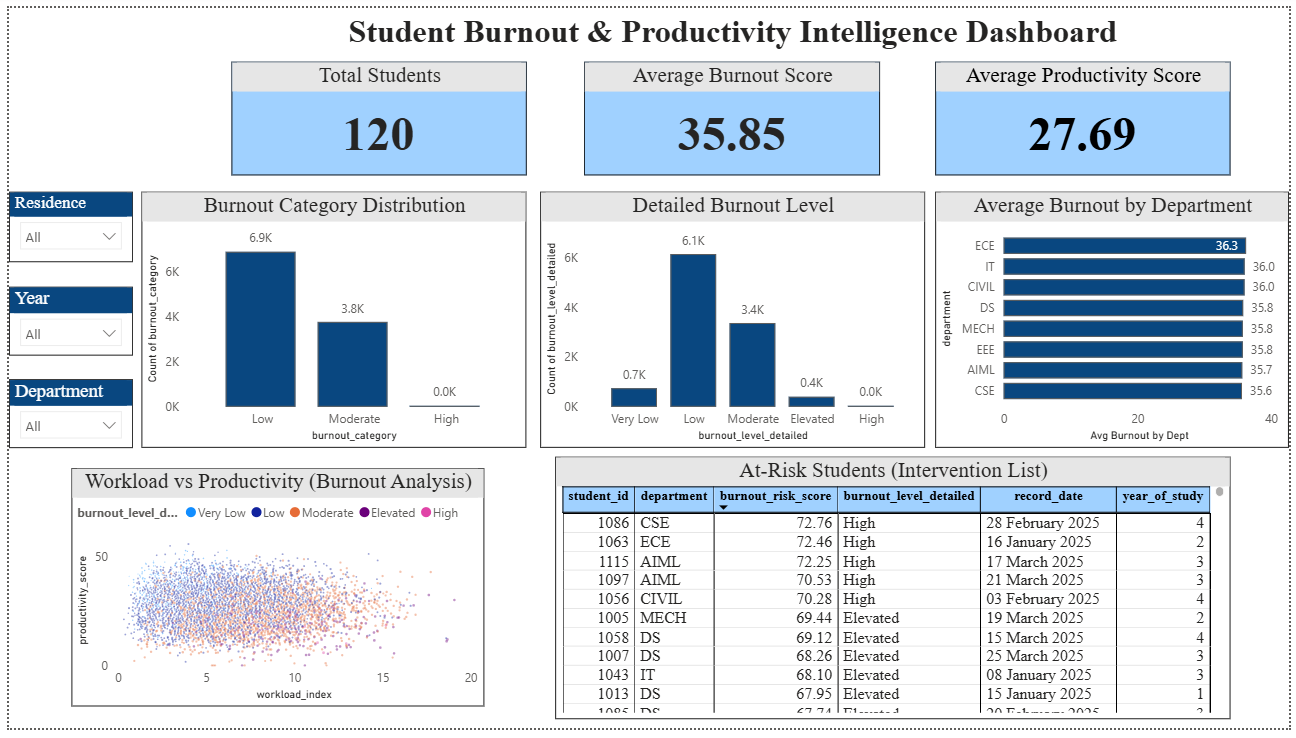

The page's visual inventory and layout, read from the dashboard file:
{"tool":"powerbi","page":{"name":"Student Burnout & Productivity Intelligence Dashboard","canvas":[1280,720],"ordinal":0},"visuals":[{"type":"textbox","box":[167.5,0,1112.5,61.2],"z":0},{"type":"card","title":"Average Productivity Score","fields":{"Values":["Avg(student_burnout_db fact_intelligence_scores.productivity_score)"]},"box":[926.2,53.8,295,113.8],"z":1000},{"type":"card","title":"Total Students","fields":{"Values":["Count(student_burnout_db dim_students.student_id)"]},"box":[222.5,53.8,295,113.8],"z":2000},{"type":"card","title":"Average Burnout Score","fields":{"Values":["Avg(student_burnout_db fact_intelligence_scores.burnout_risk_score)"]},"box":[575,53.8,296.2,113.8],"z":3000},{"type":"clusteredColumnChart","title":"Burnout Category Distribution","fields":{"Category":["student_burnout_db fact_intelligence_scores.burnout_category"],"Y":["CountNonNull(student_burnout_db fact_intelligence_scores.burnout_category)"]},"box":[132.5,183.8,385,256.2],"z":4000},{"type":"clusteredColumnChart","title":"Detailed Burnout Level","fields":{"Category":["student_burnout_db fact_intelligence_scores.burnout_level_detailed"],"Y":["CountNonNull(student_burnout_db fact_intelligence_scores.burnout_level_detailed)"]},"box":[531.2,183.8,385,256.2],"z":5000},{"type":"clusteredBarChart","title":"Average Burnout by Department","fields":{"Category":["student_burnout_db dim_students.department"],"Y":["student_burnout_db dim_students.Avg Burnout by Dept"]},"box":[926.2,183.8,353.8,256.2],"z":6000},{"type":"scatterChart","title":"Workload vs Productivity (Burnout Analysis)","fields":{"X":["student_burnout_db fact_intelligence_scores.workload_index"],"Y":["student_burnout_db fact_intelligence_scores.productivity_score"],"Size":["Avg(student_burnout_db fact_intelligence_scores.burnout_risk_score)"],"Series":["student_burnout_db fact_intelligence_scores.burnout_level_detailed"]},"box":[0,448.8,412.5,262.5],"z":7000},{"type":"tableEx","title":"At-Risk Students (Intervention List)","fields":{"Values":["student_burnout_db dim_students.student_id","student_burnout_db dim_students.department","student_burnout_db fact_intelligence_scores.burnout_risk_score","student_burnout_db fact_intelligence_scores.burnout_level_detailed","student_burnout_db fact_intelligence_scores.record_date","student_burnout_db dim_students.year_of_study","student_burnout_db fact_intelligence_scores.primary_trigger","student_burnout_db fact_intelligence_scores.suggested_action"]},"box":[427.5,448.8,852.5,262.5],"z":8000},{"type":"slicer","title":"Department","fields":{"Values":["student_burnout_db dim_students.department"]},"box":[0,371.2,123.8,68.8],"z":9000},{"type":"slicer","title":"Year","fields":{"Values":["student_burnout_db dim_students.year_of_study"]},"box":[0,278.8,123.8,68.8],"z":10000},{"type":"slicer","title":"Residence","fields":{"Values":["student_burnout_db dim_students.residence_type"]},"box":[0,183.8,123.8,70],"z":10001}]}

Visuals, with their boxes in screenshot pixels (x1, y1, x2, y2), scaled from the page's 1280x720 canvas onto the 1296x738 screenshot:
textbox: crop(170, 0, 1295, 63)
"Average Productivity Score" card: crop(938, 55, 1236, 172)
"Total Students" card: crop(225, 55, 524, 172)
"Average Burnout Score" card: crop(582, 55, 882, 172)
"Burnout Category Distribution" clusteredColumnChart: crop(134, 188, 524, 451)
"Detailed Burnout Level" clusteredColumnChart: crop(538, 188, 928, 451)
"Average Burnout by Department" clusteredBarChart: crop(938, 188, 1295, 451)
"Workload vs Productivity (Burnout Analysis)" scatterChart: crop(0, 460, 418, 729)
"At-Risk Students (Intervention List)" tableEx: crop(433, 460, 1295, 729)
"Department" slicer: crop(0, 380, 125, 451)
"Year" slicer: crop(0, 286, 125, 356)
"Residence" slicer: crop(0, 188, 125, 260)
